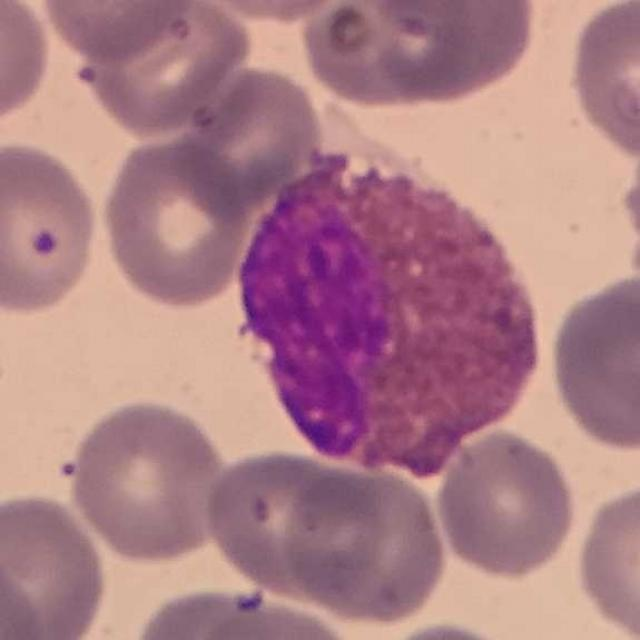Eosinophil: (218, 129, 557, 501)
RBC: (199, 444, 390, 607), (62, 394, 236, 567), (279, 461, 453, 628), (97, 130, 255, 312), (294, 0, 535, 114), (69, 1, 256, 139), (432, 425, 582, 581), (176, 62, 327, 208), (0, 134, 105, 322), (544, 270, 640, 456), (0, 488, 112, 640), (564, 1, 640, 160), (570, 475, 640, 640), (35, 0, 202, 66), (164, 593, 364, 640), (128, 582, 283, 640), (0, 0, 55, 129), (0, 547, 49, 640), (182, 0, 364, 24), (616, 115, 640, 290), (371, 616, 533, 640)
